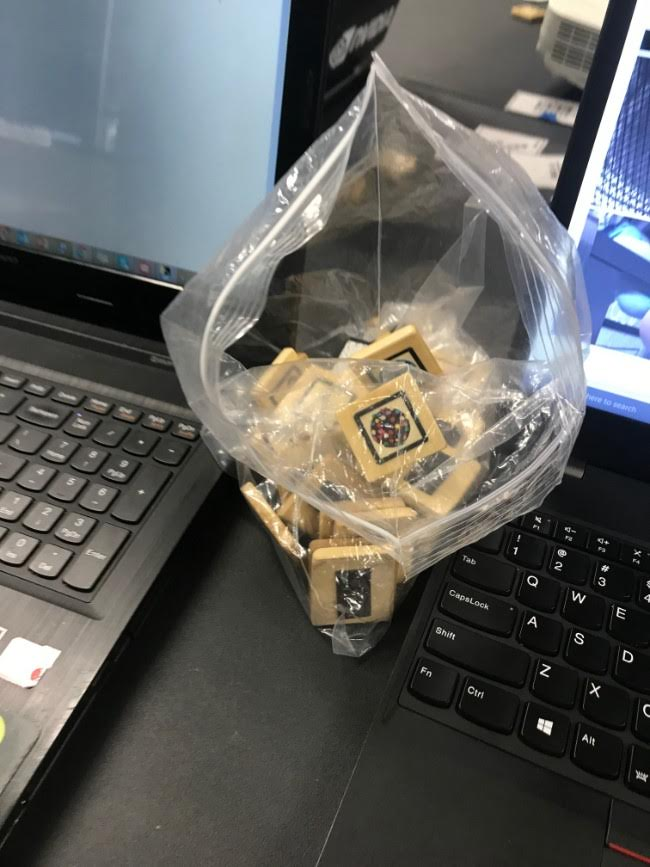cookie: (354, 390, 428, 465)
